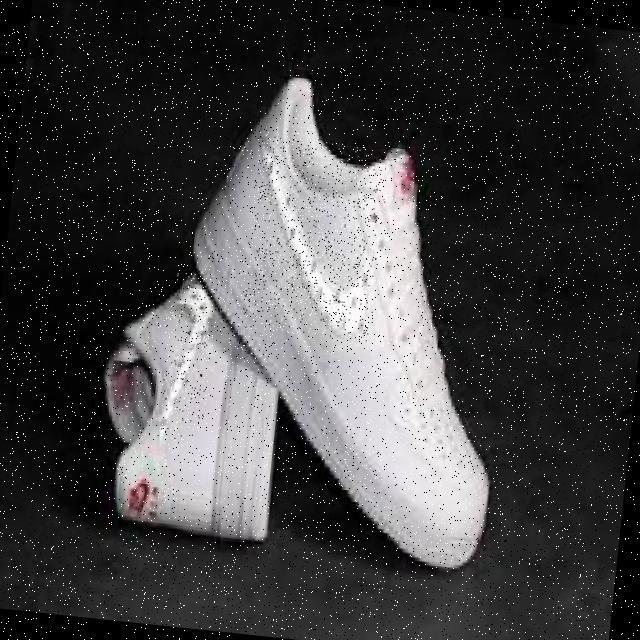Nike: (239, 135, 391, 341), (156, 272, 219, 447)
